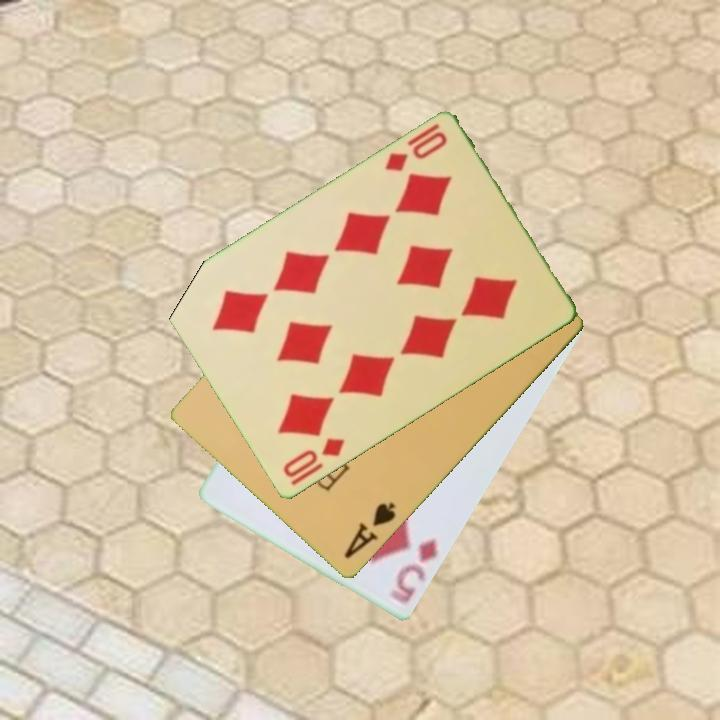10d: (279, 434, 348, 490), (381, 128, 450, 176)
5d: (386, 535, 441, 608)
As: (340, 499, 399, 562)
